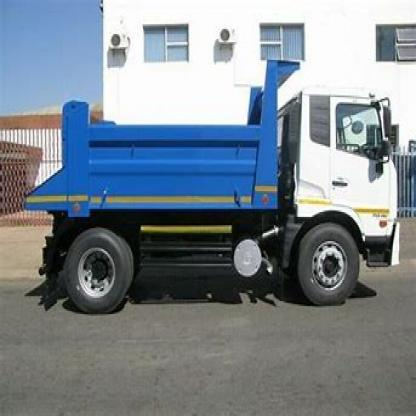dump_truck: (27, 78, 410, 312)
